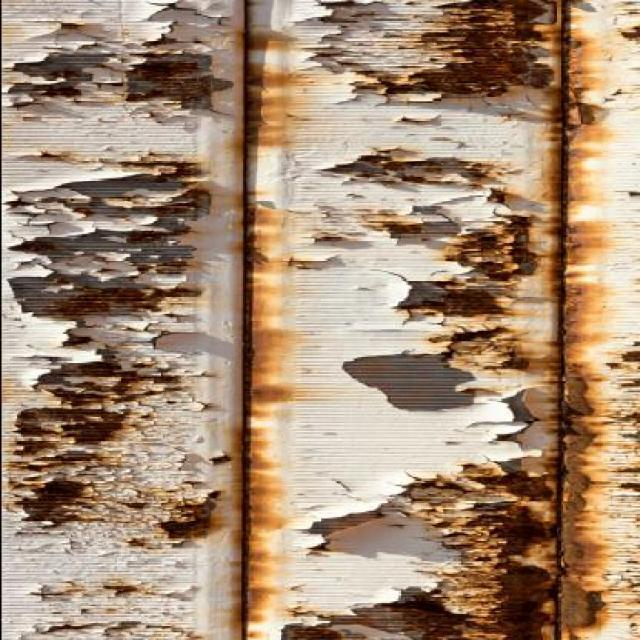Corrosion: (298, 0, 570, 108), (557, 10, 600, 639), (431, 471, 556, 638), (43, 282, 182, 334), (434, 214, 540, 282), (32, 402, 140, 450), (612, 340, 640, 498), (11, 478, 86, 530), (407, 290, 518, 321), (140, 58, 202, 112), (165, 492, 222, 545), (75, 358, 155, 392), (288, 611, 348, 640), (362, 154, 434, 176), (445, 328, 510, 352), (38, 82, 84, 104), (496, 353, 536, 377), (617, 17, 640, 44), (48, 577, 80, 596), (103, 583, 146, 596)
